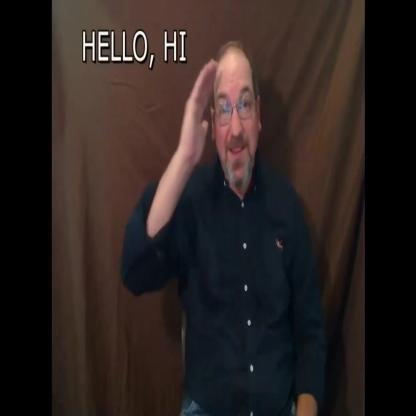Hello: (164, 29, 256, 222)
